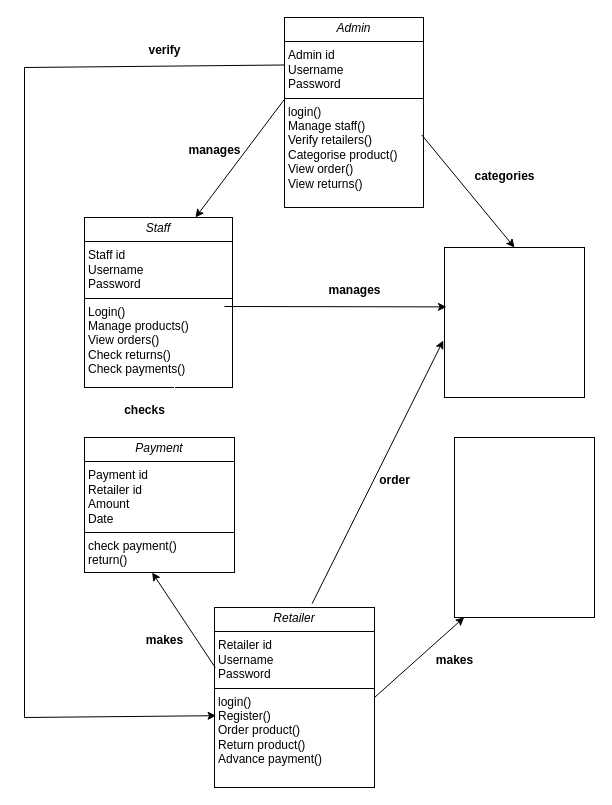
Image size: 612x805. Some labels were removed from this diagram. Each missing label, with the centre of its shape:
Order Order id Retailer id Product id place order() cancel order() return() 9: (x=524, y=527)
Product Product id Product name Category price Quantity: (x=514, y=322)
